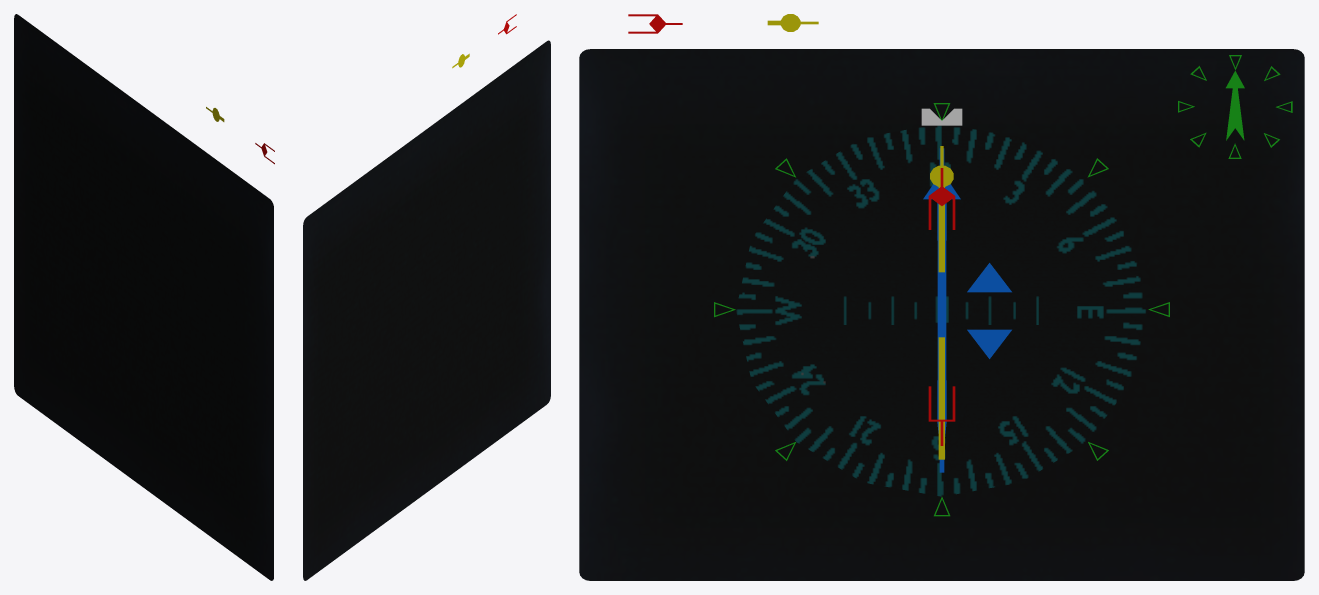
File: mfd_ehsi.fbx
3 renders of one model, left to right at view 1: azimuth 30°, elevation 25°; view 2: azimuth 150°, elevation 25°; view 3: azimuth 270°, elevation 25°, orthographic. The views are drawn at different scales.
Visible parts, largest first — view 1: EHSI-ecran; view 2: EHSI-ecran; view 3: EHSI-ecran, EHSI-compass, EHSI-CRS-needle, EHSI-ptr2, EHSI-ptr1, EHSI-CRS-deflect.
Boxes of the visible parts, bbox=[...] form: EHSI-ecran: bbox=[14, 14, 273, 580]; EHSI-ecran: bbox=[303, 40, 550, 580]; EHSI-ecran: bbox=[579, 49, 1304, 580]; EHSI-compass: bbox=[736, 125, 1147, 496]; EHSI-CRS-needle: bbox=[831, 148, 1052, 472]; EHSI-ptr2: bbox=[930, 146, 953, 459]; EHSI-ptr1: bbox=[928, 168, 955, 445]; EHSI-CRS-deflect: bbox=[937, 240, 946, 380].
Size of the model in its own units: 0.5958 by 14.59 by 12.85.
Materials: 1 (1 with a texture image).
